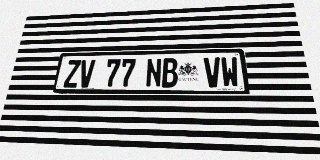7: (104, 59, 121, 87), (119, 59, 136, 87)
B: (162, 58, 178, 87)
N: (145, 58, 162, 87)
V: (203, 57, 222, 87), (78, 60, 95, 87)
W: (220, 57, 240, 87)
Z: (63, 60, 81, 87)
